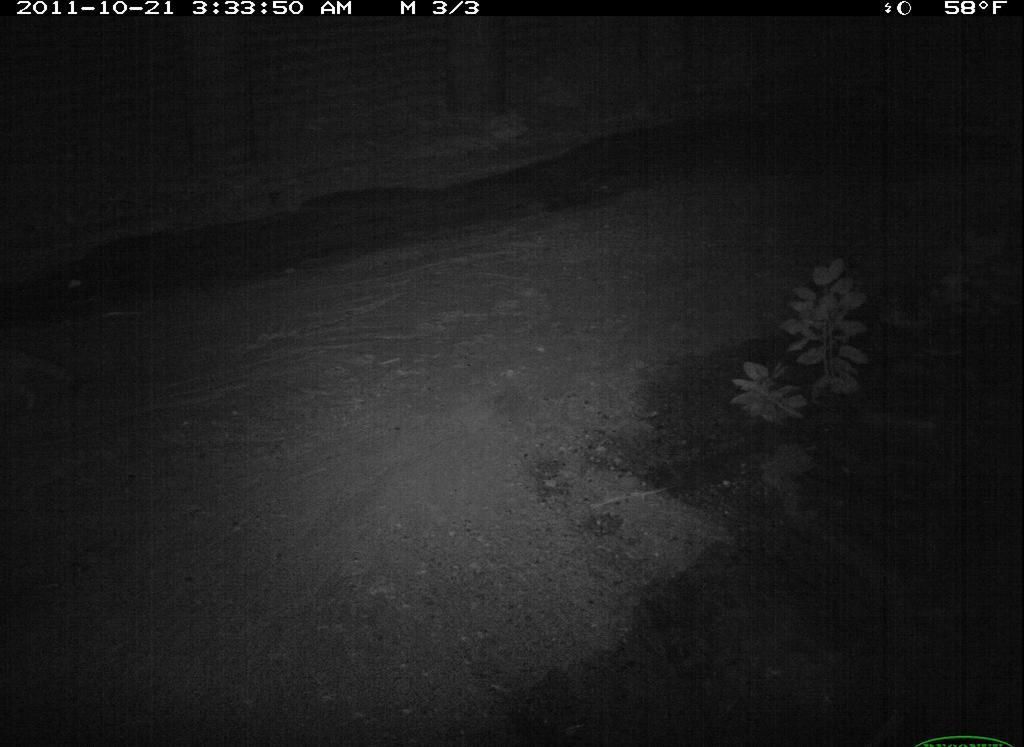raccoon: (1, 342, 82, 418)
